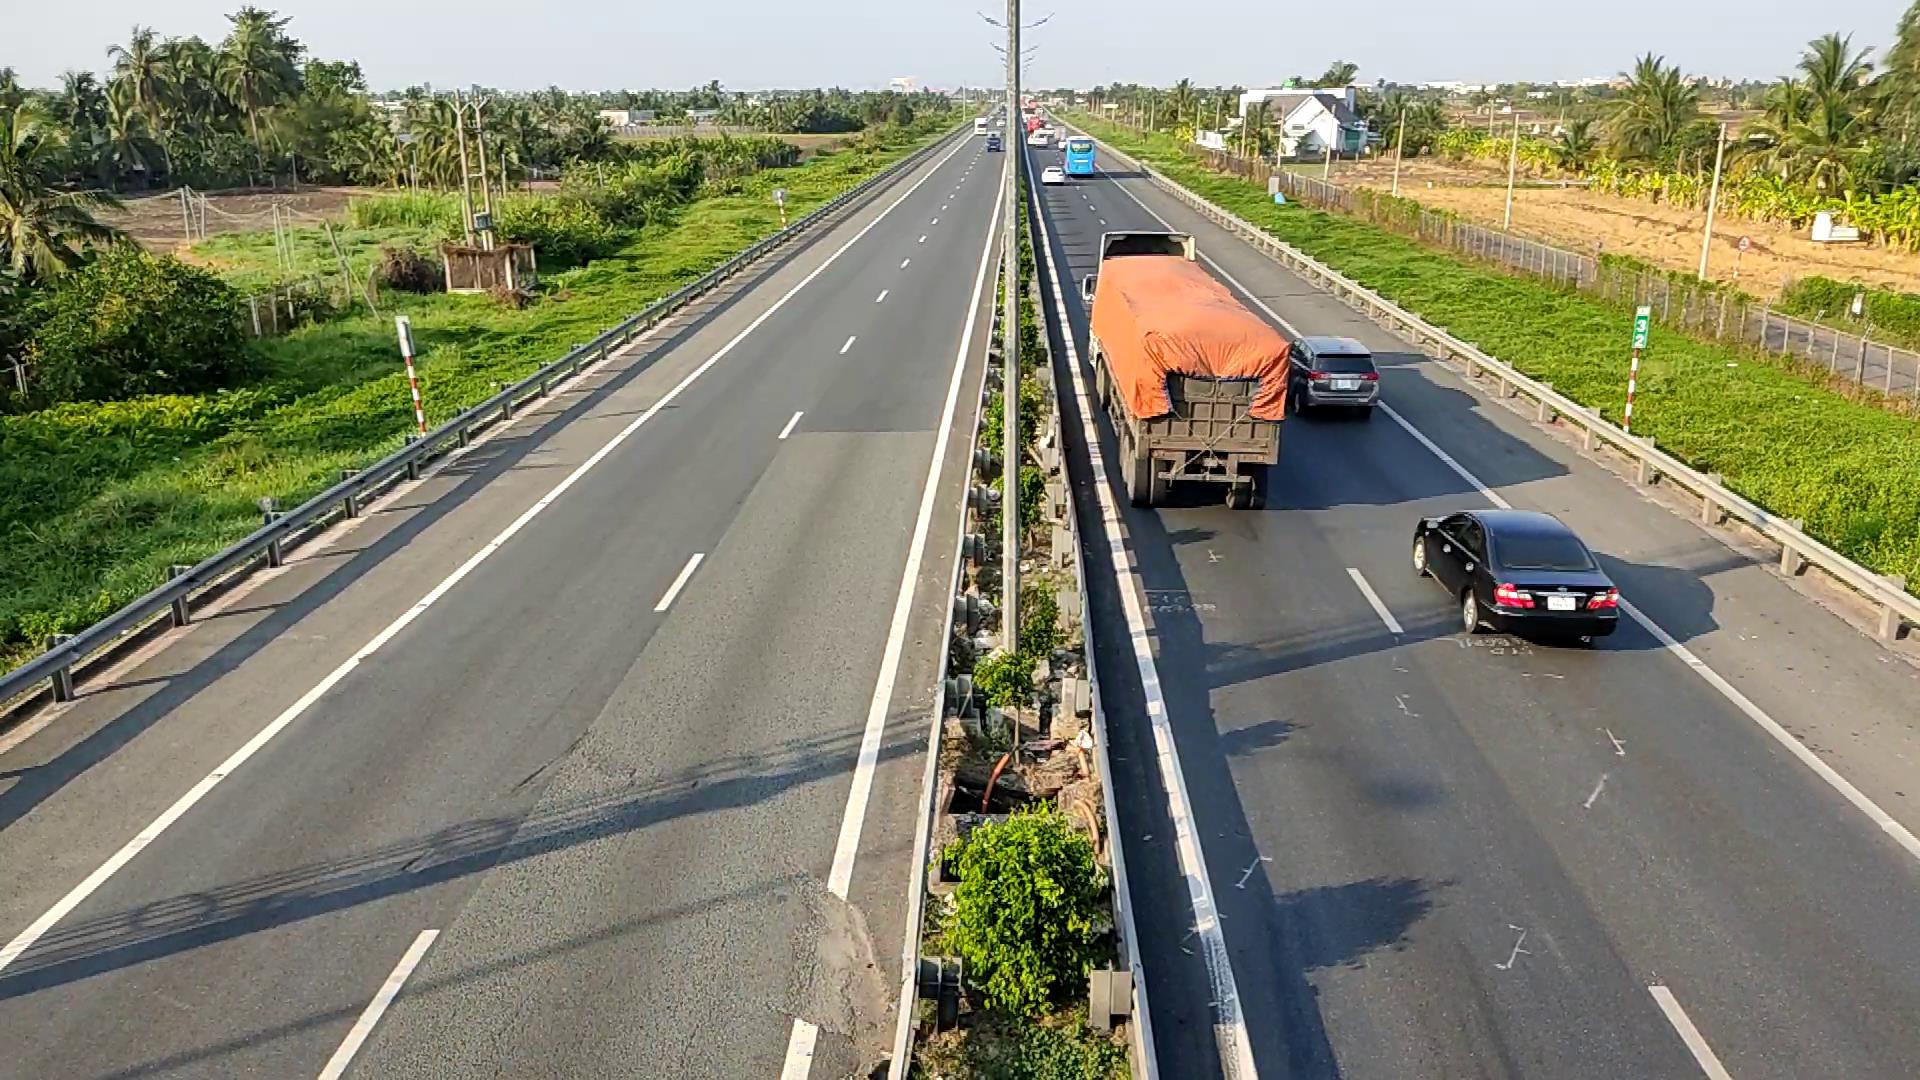car: (1410, 508, 1621, 641), (1284, 334, 1381, 418)
truck: (1084, 237, 1294, 509)
